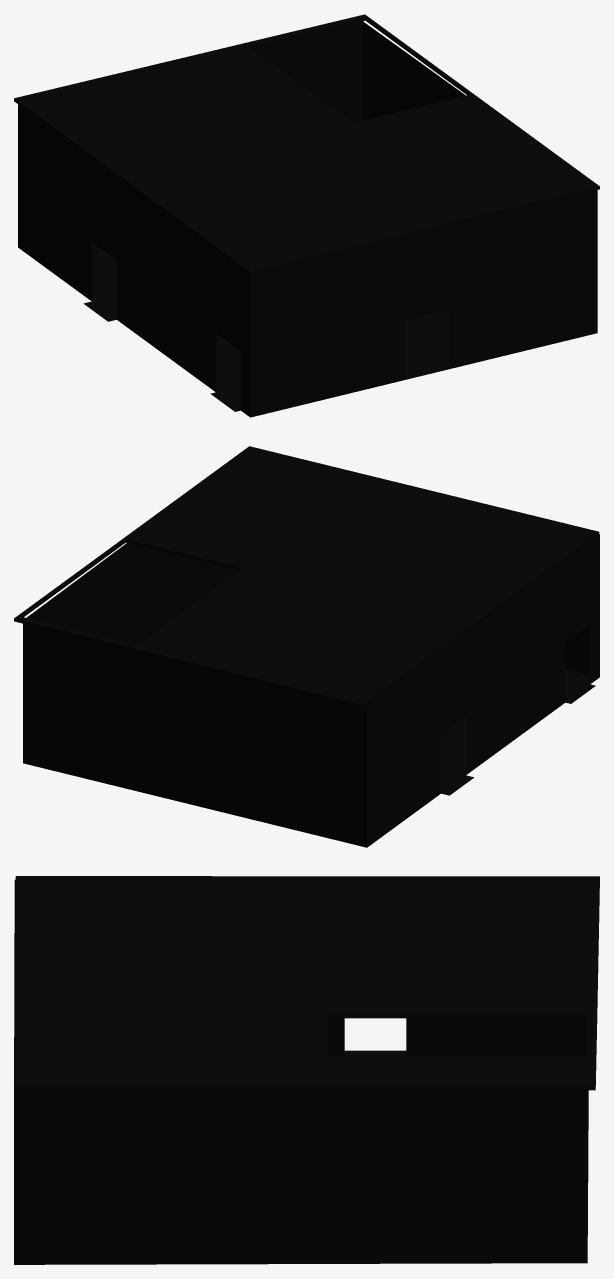
Rendered from Stairwell.fbx.
3 renders of one model, top to bottom at view 1: azimuth 30°, elevation 25°; view 2: azimuth 150°, elevation 25°; view 3: azimuth 270°, elevation 25°, orthographic. The views are drawn at different scales.
Parts seen in each view (by area): view 1: stairwell_Baked, root.003_Baked, Floor.005_Baked; view 2: stairwell_Baked, root.003_Baked, Floor.005_Baked; view 3: root.003_Baked, stairwell_Baked, Floor.005_Baked.
Boxes of the visible parts, bbox=[...] form: stairwell_Baked: bbox=[18, 21, 597, 417]; root.003_Baked: bbox=[14, 14, 599, 274]; Floor.005_Baked: bbox=[83, 212, 448, 411]; stairwell_Baked: bbox=[23, 534, 599, 847]; root.003_Baked: bbox=[14, 446, 599, 707]; Floor.005_Baked: bbox=[367, 641, 595, 795]; root.003_Baked: bbox=[15, 876, 599, 1090]; stairwell_Baked: bbox=[14, 879, 588, 1264]; Floor.005_Baked: bbox=[14, 1050, 586, 1088].
Bounding box in the file's own units: 1261 × 490 × 1446.
